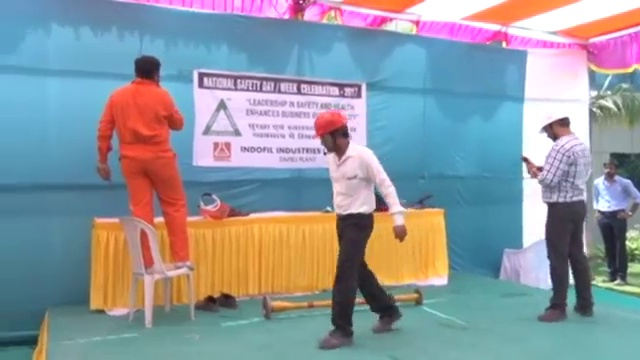helmet: (311, 110, 351, 138), (538, 105, 568, 131)
helmet_off: (132, 54, 164, 84), (600, 157, 621, 181)
helmet_on: (310, 109, 354, 157), (538, 104, 573, 143)
person: (309, 110, 409, 352), (95, 56, 195, 272), (524, 105, 595, 323), (591, 156, 640, 282)
